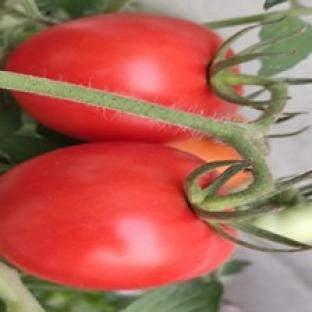Tomato: (0, 143, 233, 289), (6, 13, 236, 118), (168, 137, 240, 162)
